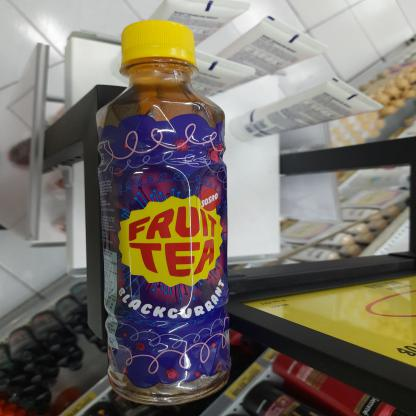bottle: (92, 19, 232, 408)
